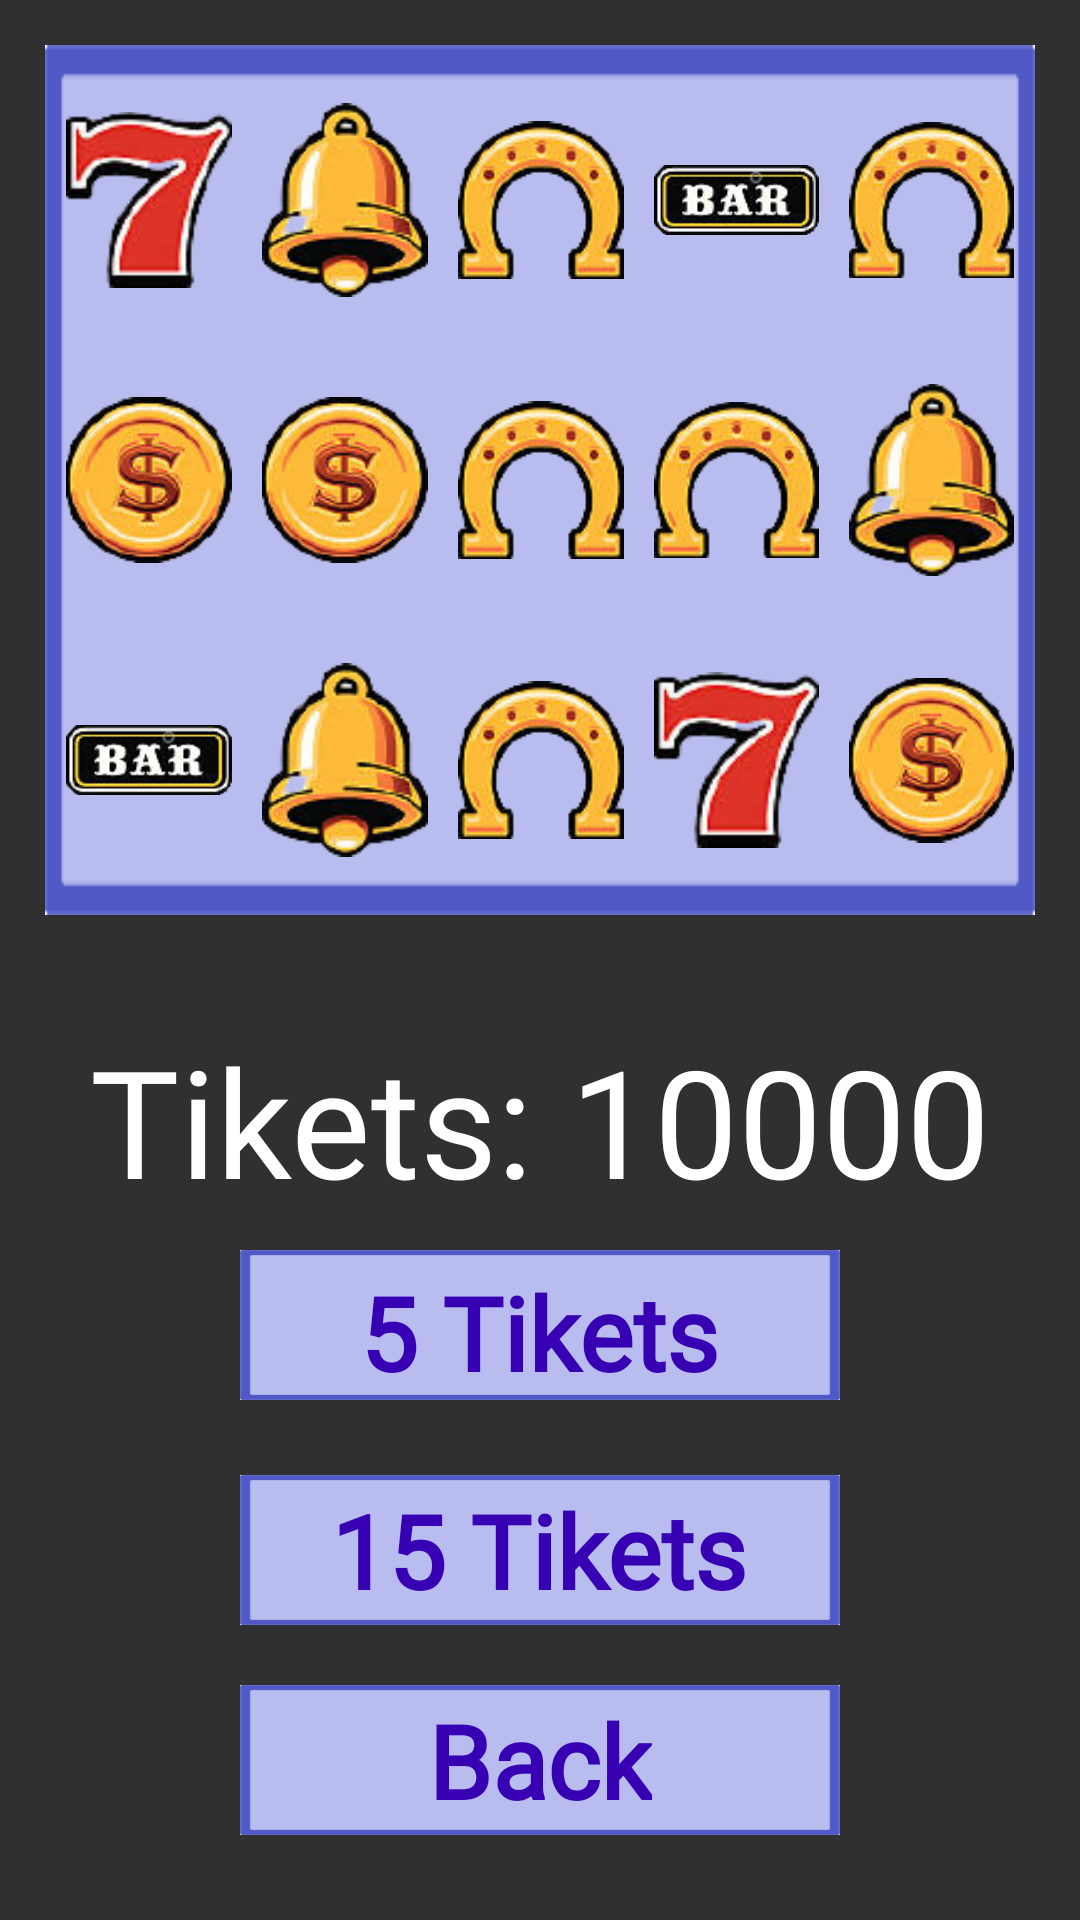

Named icons in this screenshot (1080px x 1920px) and their bounding boxes, (x1, y1, x2, y2):
coin: (66, 397, 232, 563), (262, 397, 428, 563), (849, 678, 1014, 843)
kolokol: (262, 103, 428, 297), (849, 384, 1014, 576), (262, 663, 428, 857)
podkova: (458, 121, 624, 279), (849, 122, 1014, 278), (458, 401, 624, 559), (654, 402, 819, 558), (458, 681, 624, 839)
seven: (66, 112, 232, 288), (654, 672, 819, 848)
